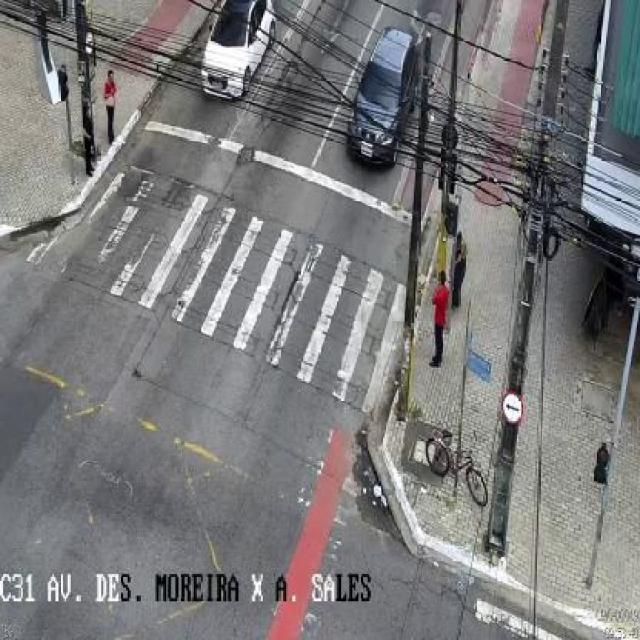Car: (319, 28, 461, 174), (184, 1, 275, 107)
Cycle: (403, 407, 501, 520)
